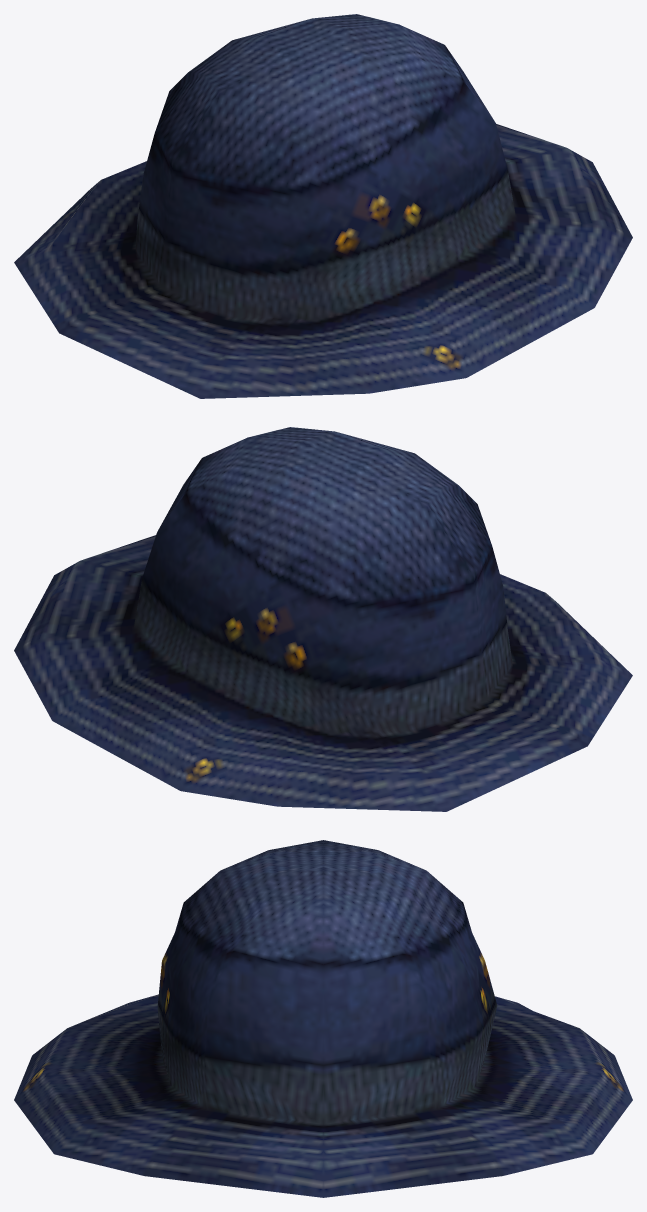
File: hat_0400010.FBX
3 views of the same model, one above another, from view 1: azimuth 30°, elevation 25°; view 2: azimuth 150°, elevation 25°; view 3: azimuth 270°, elevation 25° (orthographic). The views are drawn at different scales.
Parts seen in each view (by area): view 1: hat_0400010; view 2: hat_0400010; view 3: hat_0400010.
Boxes of the visible parts, left/top/right/bottom form: hat_0400010: left=14, top=14, right=632, bottom=398; hat_0400010: left=14, top=427, right=632, bottom=811; hat_0400010: left=14, top=840, right=632, bottom=1197.
Size of the model in its own units: 45.98 by 20.03 by 44.27.
